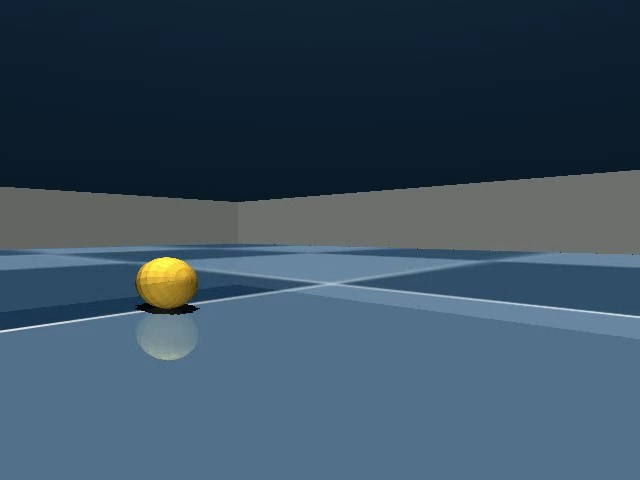lemon: (127, 251, 209, 316)
